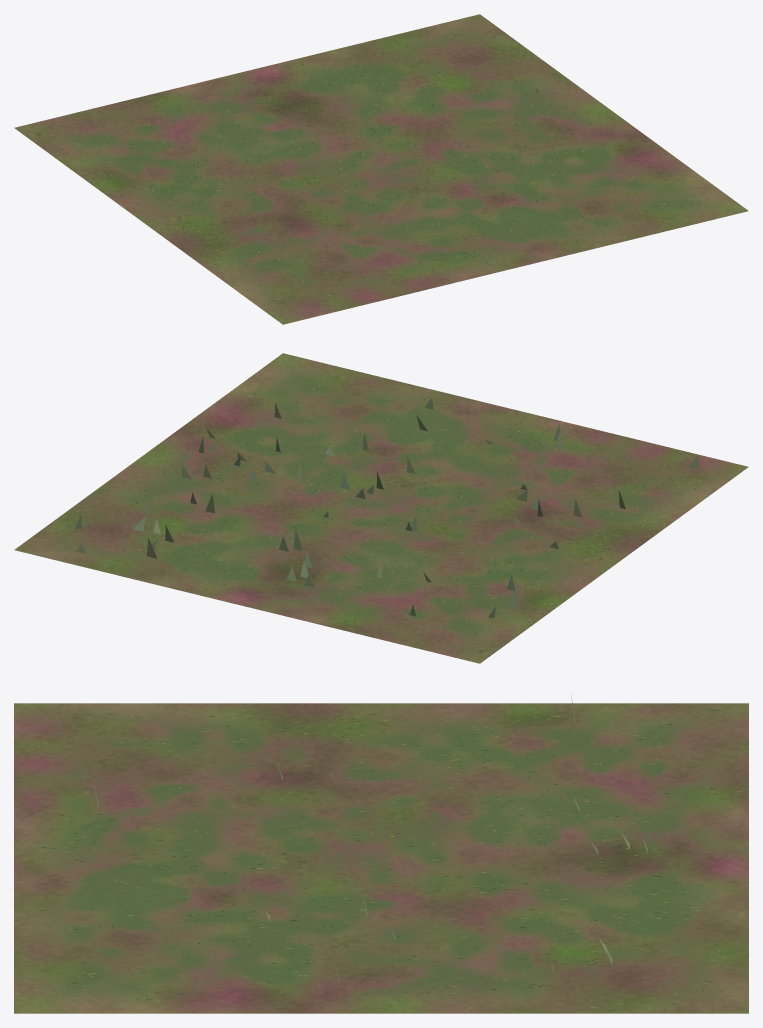
The model's file is E07_SOLOZ2_P1_GRAMA_TERRA_MOSAICO_BASE.glb.
The picture shows the model from 3 angles, top to bottom: view 1: azimuth 30°, elevation 25°; view 2: azimuth 150°, elevation 25°; view 3: azimuth 270°, elevation 25°; orthographic projection. The views are drawn at different scales.
Visible parts, largest first — view 1: piso_2x2_texturizado; view 2: piso_2x2_texturizado, grama_folhas_tridimensionais; view 3: piso_2x2_texturizado, grama_folhas_tridimensionais.
Part boxes in pixels (<box>): piso_2x2_texturizado: <box>14,14,748,324</box>; piso_2x2_texturizado: <box>14,353,748,663</box>; grama_folhas_tridimensionais: <box>75,398,698,618</box>; piso_2x2_texturizado: <box>14,703,748,1013</box>; grama_folhas_tridimensionais: <box>55,695,712,995</box>.
Bounding box in the file's own units: 2 × 0.095 × 2.
1 material, 1 textured.
